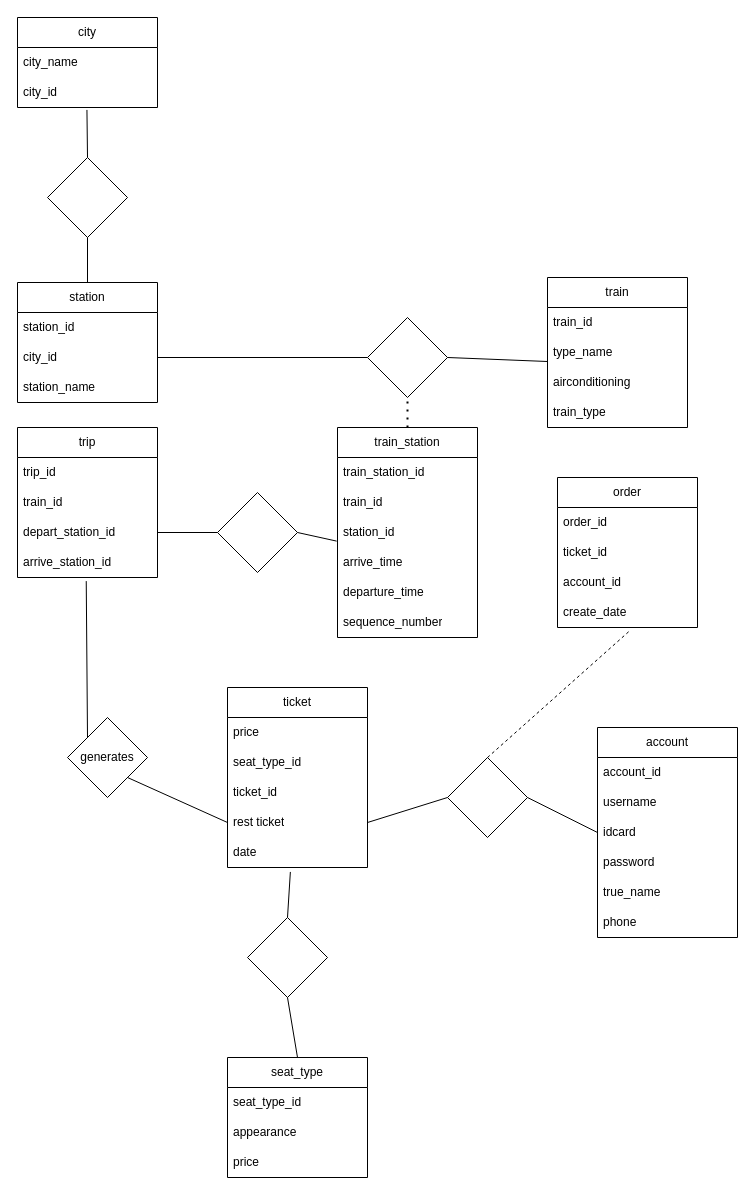
Some shapes in this 755 by 1195 pixel diagram are drawn without their labels. Here are the shapes that lost their labels. From the top down, the centre of each, then its label:
point (87, 197): located in
point (407, 357): stops at
point (257, 532): determine
point (487, 797): buy
point (287, 957): specifies
